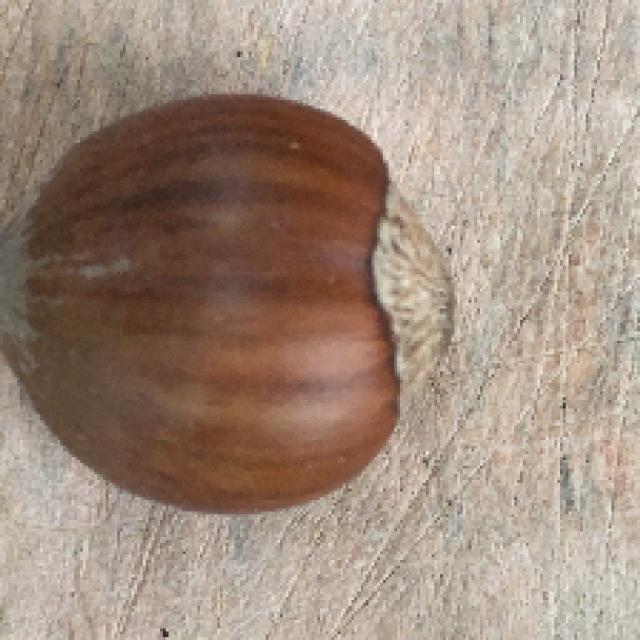qualityHazelnut: (0, 89, 461, 517)
